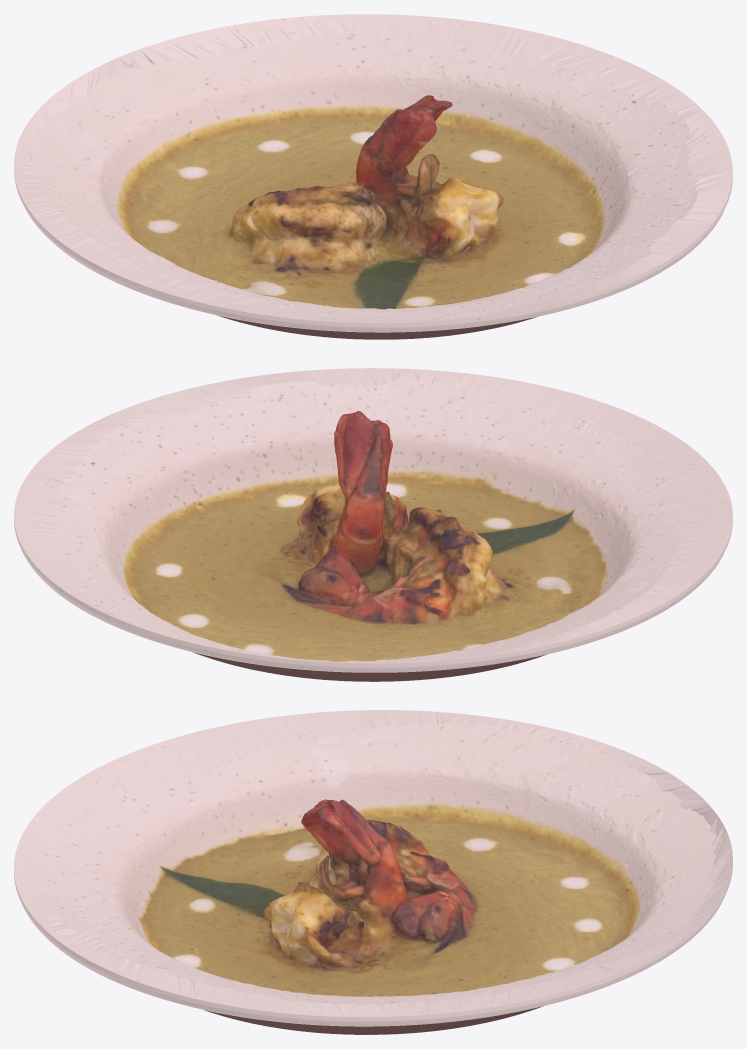
Rendered from Golda_Amok.glb.
3 views of the same model, one above another, from view 1: azimuth 30°, elevation 25°; view 2: azimuth 150°, elevation 25°; view 3: azimuth 270°, elevation 25° (orthographic).
Parts seen in each view (by area): view 1: polySurface2; view 2: polySurface2; view 3: polySurface2.
Part boxes in pixels (x1,y1,x2,y2): polySurface2: (14, 14, 732, 339); polySurface2: (14, 368, 732, 681); polySurface2: (14, 710, 732, 1034).
Size of the model in its own units: 0.1441 by 0.0321 by 0.144.
Materials: 2 (2 with a texture image).
